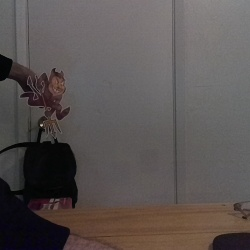sparky: (18, 66, 71, 140)
